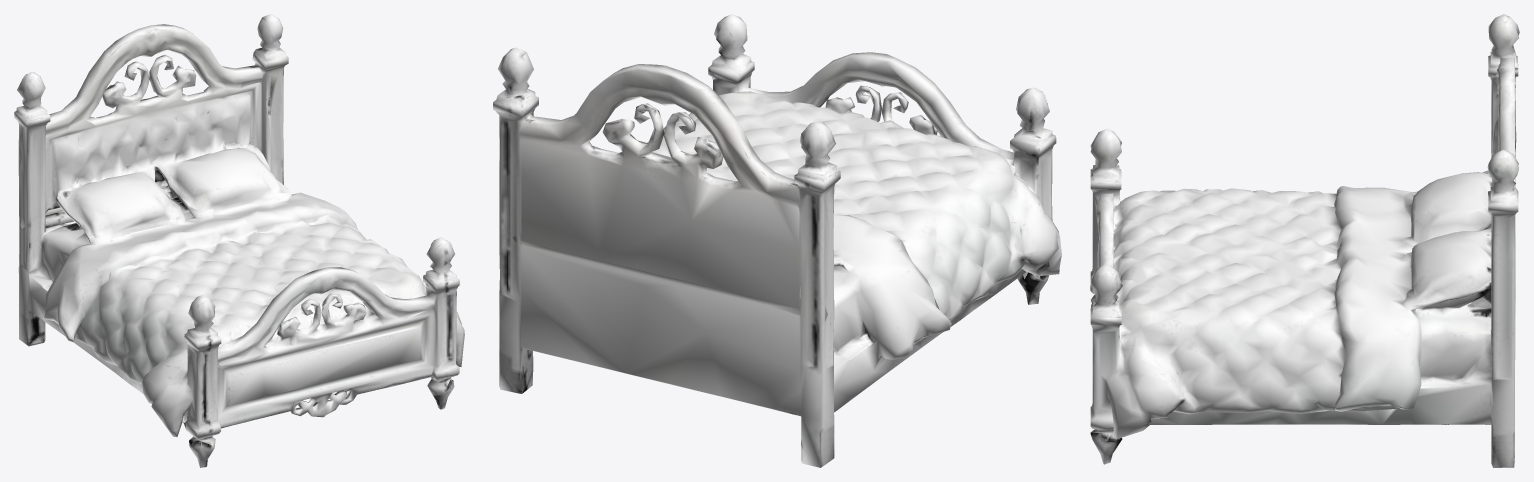
The model's file is White_bed.glb.
3 renders of one model, left to right at view 1: azimuth 30°, elevation 25°; view 2: azimuth 150°, elevation 25°; view 3: azimuth 270°, elevation 25°, orthographic. The views are drawn at different scales.
Visible parts, largest first — view 1: Mesh_0; view 2: Mesh_0; view 3: Mesh_0.
Part boxes in pixels (x1,y1,x2,y2): Mesh_0: [14, 14, 464, 467]; Mesh_0: [493, 14, 1061, 467]; Mesh_0: [1090, 14, 1519, 467].
Bounding box in the file's own units: 1.87 × 1.62 × 1.92.
1 material, 1 textured.
